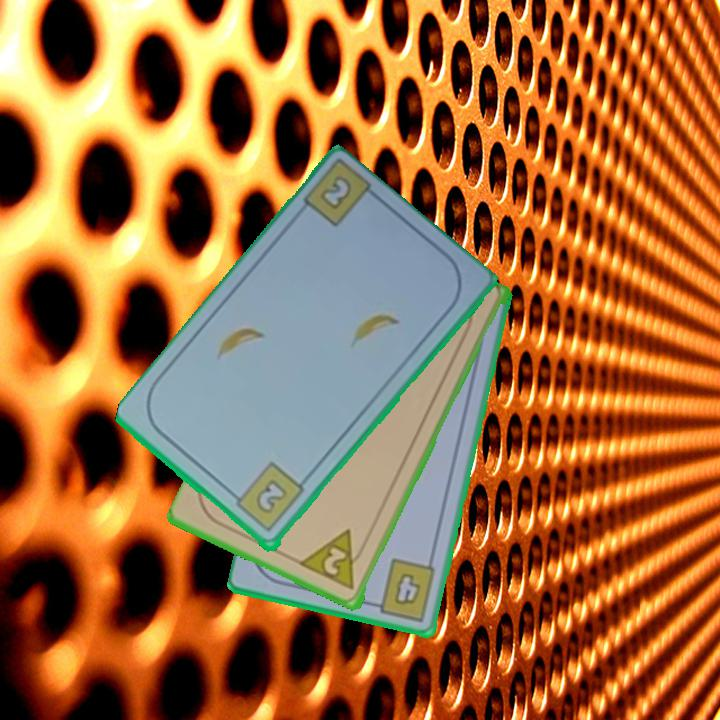2b: (226, 459, 307, 536), (316, 172, 355, 214)
2p: (298, 526, 370, 595)
4b: (366, 555, 439, 624)
